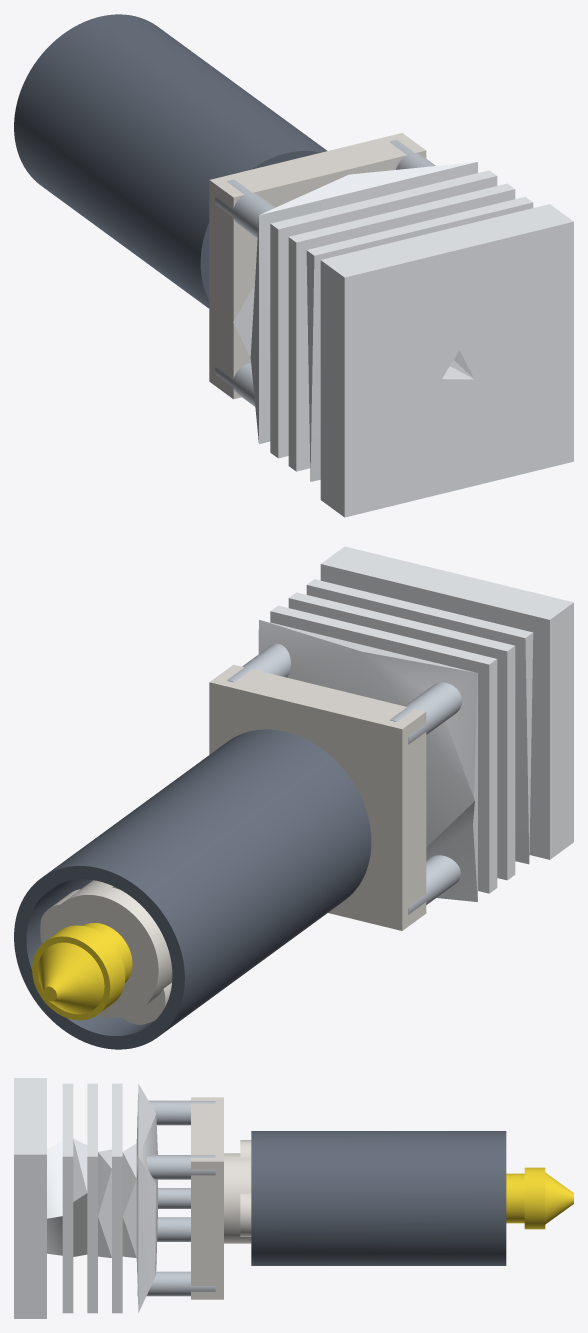
3 views of the same model, one above another, from view 1: azimuth 30°, elevation 25°; view 2: azimuth 150°, elevation 25°; view 3: azimuth 270°, elevation 25° (orthographic). The views are drawn at different scales.
Parts seen in each view (by area): view 1: monolith_4bolt_heatsink, monolith_silicone_sock, monolith_50mm_cu_core, monolith_ti_preload_posts; view 2: monolith_4bolt_heatsink, monolith_silicone_sock, monolith_50mm_cu_core, monolith_v6_nozzle, monolith_ti_preload_posts; view 3: monolith_silicone_sock, monolith_4bolt_heatsink, monolith_50mm_cu_core, monolith_ti_preload_posts, monolith_v6_nozzle.
Part boxes in pixels (<box>): monolith_4bolt_heatsink: <box>233,162,573,517</box>; monolith_silicone_sock: <box>14,14,326,308</box>; monolith_50mm_cu_core: <box>209,133,426,399</box>; monolith_ti_preload_posts: <box>215,140,435,406</box>; monolith_4bolt_heatsink: <box>258,546,573,901</box>; monolith_silicone_sock: <box>14,729,371,1049</box>; monolith_50mm_cu_core: <box>40,664,426,1024</box>; monolith_v6_nozzle: <box>32,923,132,1020</box>; monolith_ti_preload_posts: <box>227,643,461,914</box>; monolith_silicone_sock: <box>251,1131,506,1265</box>; monolith_4bolt_heatsink: <box>14,1078,157,1318</box>; monolith_50mm_cu_core: <box>191,1097,251,1299</box>; monolith_ti_preload_posts: <box>137,1100,215,1296</box>; monolith_v6_nozzle: <box>506,1167,573,1229</box>.
Bounding box in the file's own units: 0.0226 × 0.022 × 0.068.
